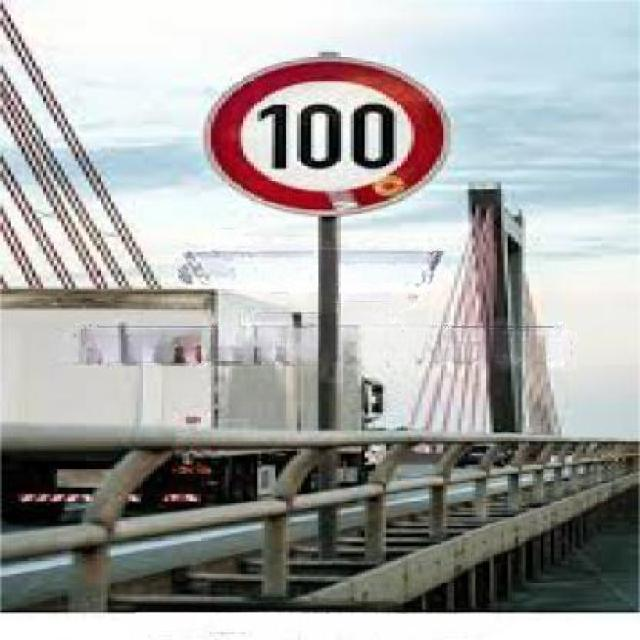speed limit 100: (200, 52, 453, 217)
